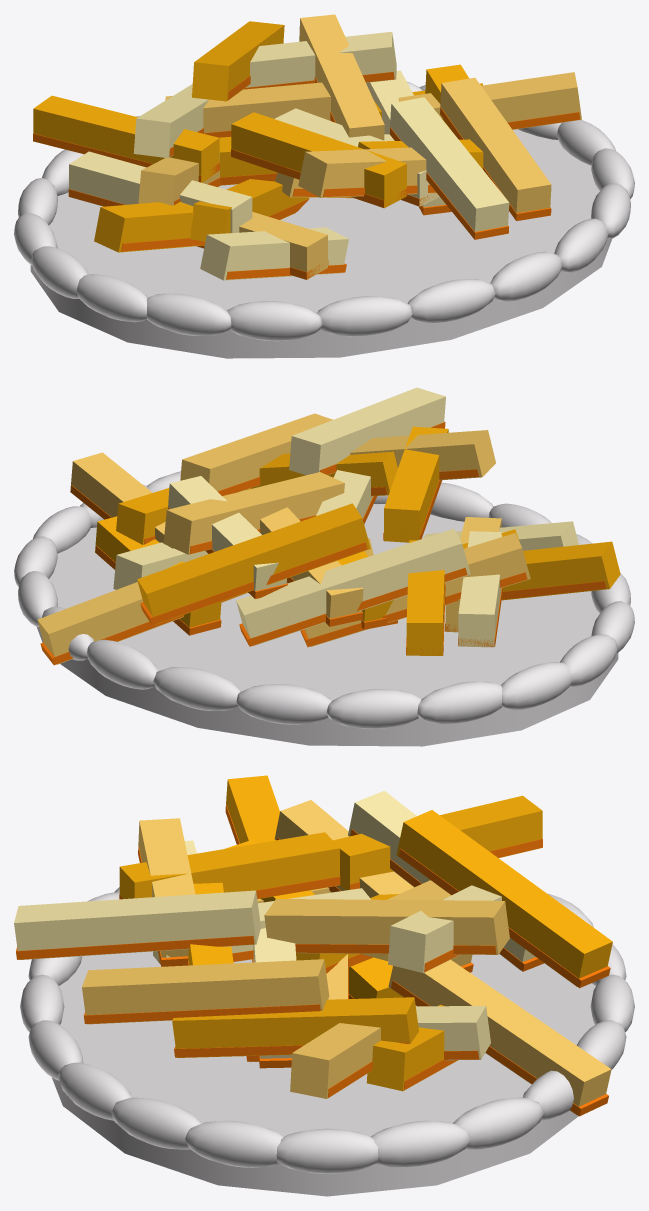
File: CMU3DFoodMealFriesExtraCloud.glb
The picture shows the model from 3 angles, top to bottom: view 1: azimuth 30°, elevation 25°; view 2: azimuth 150°, elevation 25°; view 3: azimuth 270°, elevation 25°; orthographic projection. The views are drawn at different scales.
Visible parts, largest first — view 1: shallow dish floor, individual golden fry 24, individual golden fry 19, individual golden fry 23, individual golden fry 08, individual golden fry 04, individual golden fry 18, individual golden fry 12, individual golden fry 21, individual golden fry 20, individual golden fry 22, individual golden fry 26 (+33 smaller); view 2: shallow dish floor, individual golden fry 20, individual golden fry 15, individual golden fry 24, individual golden fry 04, individual golden fry 19, individual golden fry 25, individual golden fry 08, individual golden fry 26, individual golden fry 16, individual golden fry 10, individual golden fry 23 (+33 smaller); view 3: shallow dish floor, individual golden fry 24, individual golden fry 20, individual golden fry 19, individual golden fry 25, individual golden fry 04, individual golden fry 14, individual golden fry 08, individual golden fry 23, individual golden fry 22, white dish raised lip 01, white dish raised lip 02 (+32 smaller).
Boxes of the visible parts, x1,y1,x2,y2 form: shallow dish floor: (30,129,611,358); individual golden fry 24: (389,97,509,231); individual golden fry 19: (440,77,551,213); individual golden fry 23: (33,95,219,182); individual golden fry 08: (231,112,406,208); individual golden fry 04: (299,14,384,140); individual golden fry 18: (69,151,252,232); individual golden fry 12: (246,31,396,87); individual golden fry 21: (200,227,348,280); individual golden fry 20: (192,21,284,101); individual golden fry 22: (398,72,581,129); individual golden fry 26: (94,202,204,252); shallow dish floor: (37,504,618,746); individual golden fry 20: (137,503,370,624); individual golden fry 15: (236,528,470,645); individual golden fry 24: (289,387,445,475); individual golden fry 04: (163,472,344,554); individual golden fry 19: (180,413,332,491); individual golden fry 25: (37,582,247,664); individual golden fry 08: (384,426,448,542); individual golden fry 26: (502,541,620,600); individual golden fry 16: (350,430,495,480); individual golden fry 10: (304,533,530,646); individual golden fry 23: (406,540,444,655); shallow dish floor: (52,951,595,1196); individual golden fry 24: (14,890,260,959); individual golden fry 20: (396,810,612,986); individual golden fry 19: (82,959,329,1024); individual golden fry 25: (388,959,611,1114); individual golden fry 04: (264,899,509,954); individual golden fry 14: (172,997,418,1057); individual golden fry 08: (119,832,339,898); individual golden fry 23: (333,795,542,890); individual golden fry 22: (290,1023,380,1098); white dish raised lip 01: (276,1128,378,1173); white dish raised lip 02: (371,1120,469,1167).
Bounding box in the file's own units: 0.624 × 0.2 × 0.5312.
